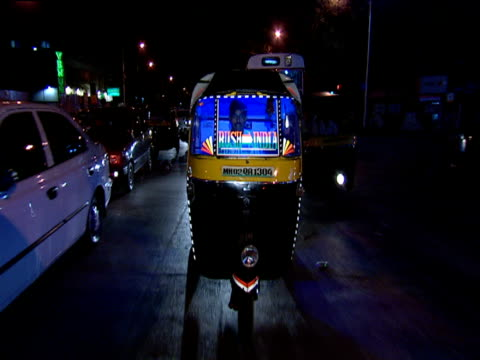rickshaw: (180, 67, 307, 329)
